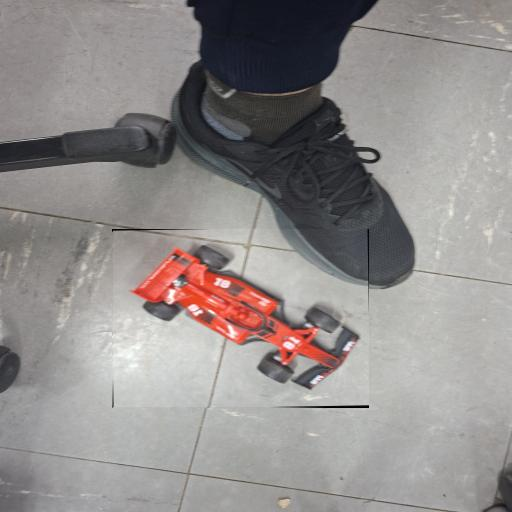carro: (113, 230, 368, 407)
